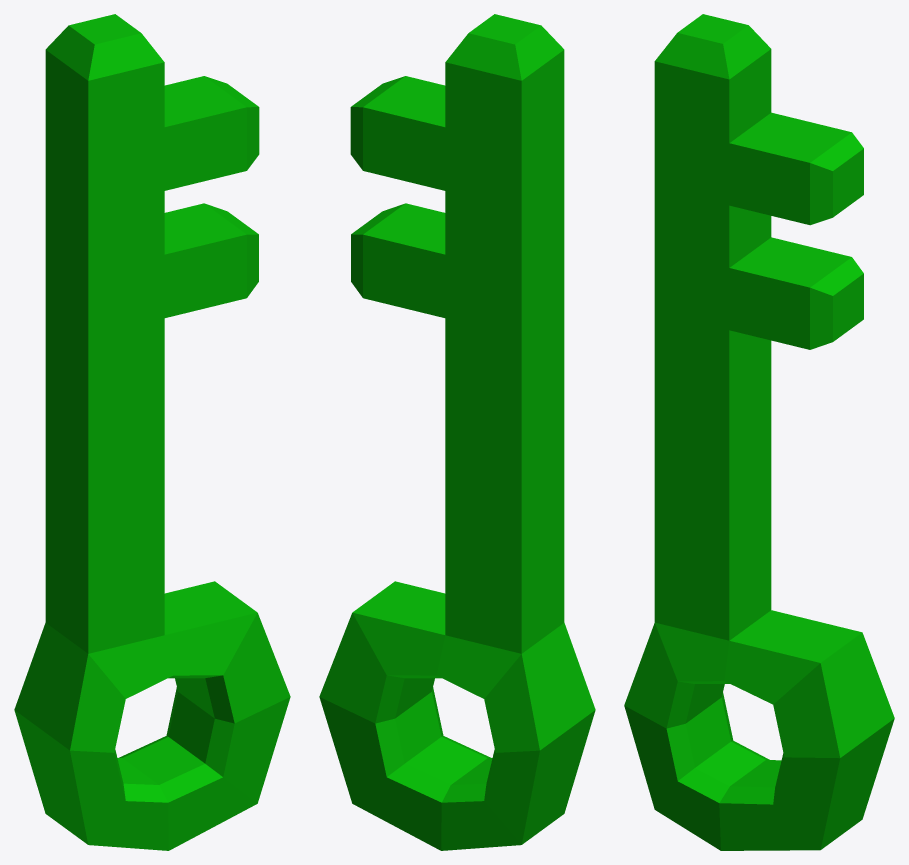
The model's file is key_green.glb.
3 renders of one model, left to right at view 1: azimuth 30°, elevation 25°; view 2: azimuth 150°, elevation 25°; view 3: azimuth 330°, elevation 25°, orthographic. The views are drawn at different scales.
Visible parts, largest first — view 1: key_green; view 2: key_green; view 3: key_green.
Part boxes in pixels (x1,y1,x2,y2): key_green: (14,14,290,850); key_green: (319,14,595,850); key_green: (624,14,894,850).
Bounding box in the file's own units: 0.604 × 2.12 × 0.2691.
Materials: 1 (1 with a texture image).
